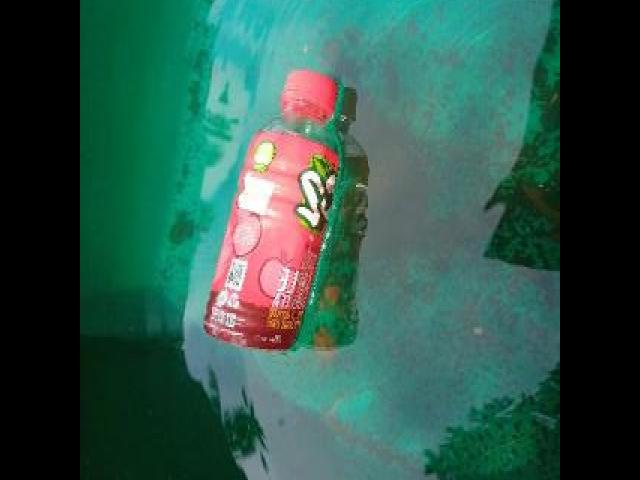Bottle: (197, 59, 353, 358)
